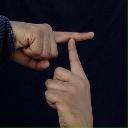hand: (0, 20, 95, 71), (44, 38, 93, 127)
